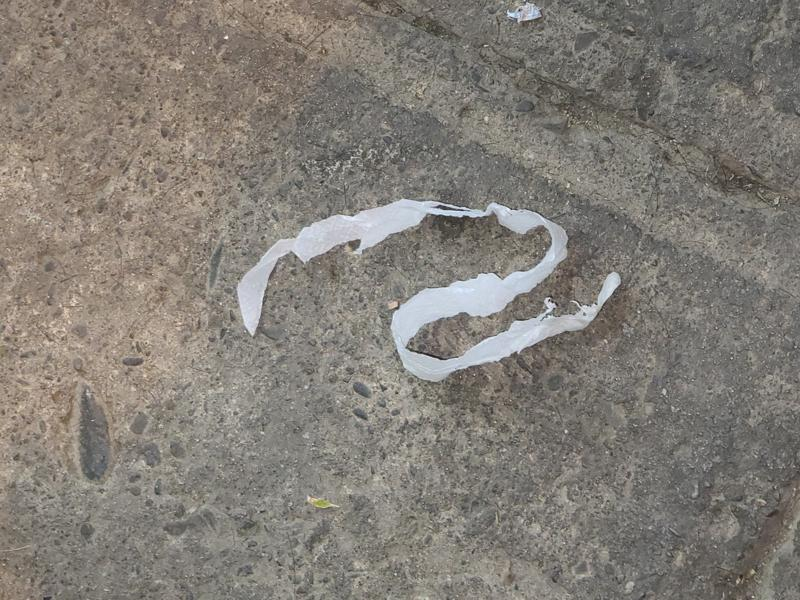papel: (236, 201, 622, 382)
